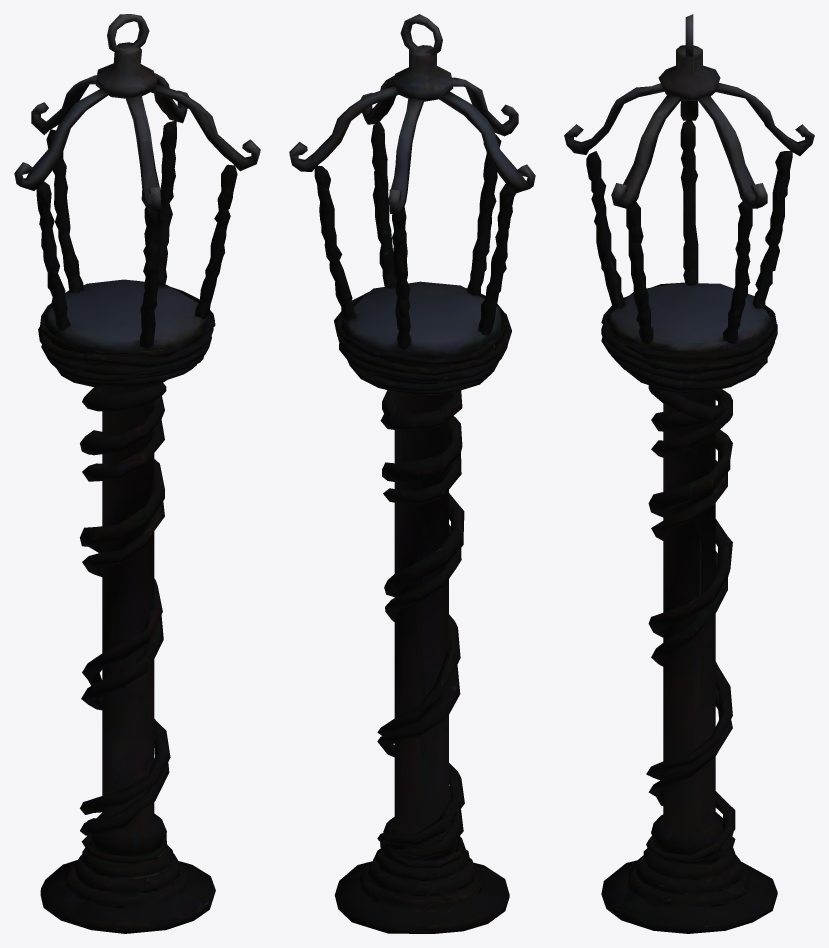
The model's file is wyn_quest_grave_lamp_bound.glb.
3 renders of one model, left to right at view 1: azimuth 30°, elevation 25°; view 2: azimuth 150°, elevation 25°; view 3: azimuth 270°, elevation 25°, orthographic.
Parts seen in each view (by area): view 1: tripo_node_d0900192-66bc-4ce8-9c75-08d6ed8d6c18; view 2: tripo_node_d0900192-66bc-4ce8-9c75-08d6ed8d6c18; view 3: tripo_node_d0900192-66bc-4ce8-9c75-08d6ed8d6c18.
Part boxes in pixels (x1,y1,x2,y2): tripo_node_d0900192-66bc-4ce8-9c75-08d6ed8d6c18: (14,14,260,933); tripo_node_d0900192-66bc-4ce8-9c75-08d6ed8d6c18: (289,14,535,933); tripo_node_d0900192-66bc-4ce8-9c75-08d6ed8d6c18: (564,14,814,933).
Size of the model in its own units: 0.2853 by 1.15 by 0.2971.
1 material, 1 textured.
